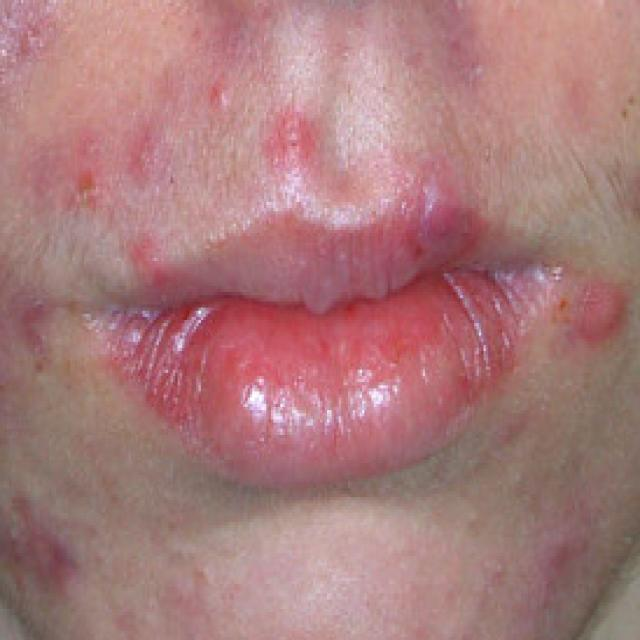blackhead: (621, 106, 629, 120), (628, 94, 636, 106), (170, 173, 177, 185)
nodule: (576, 279, 628, 347), (420, 182, 461, 244)
